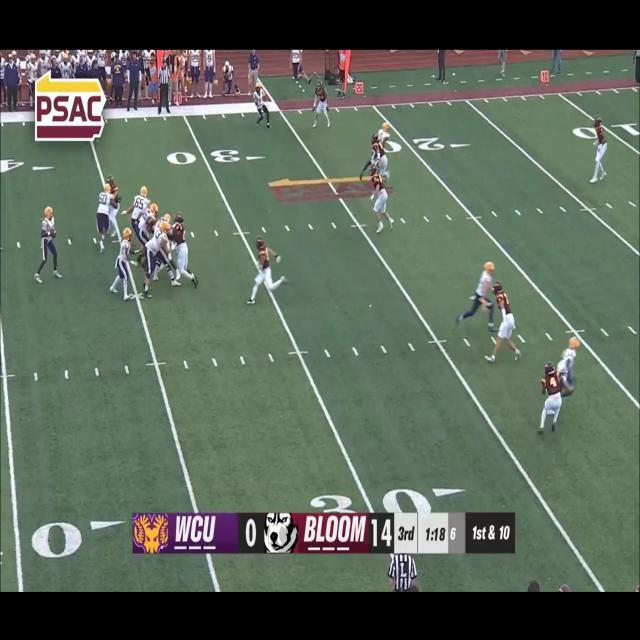football: (50, 226, 57, 240)
